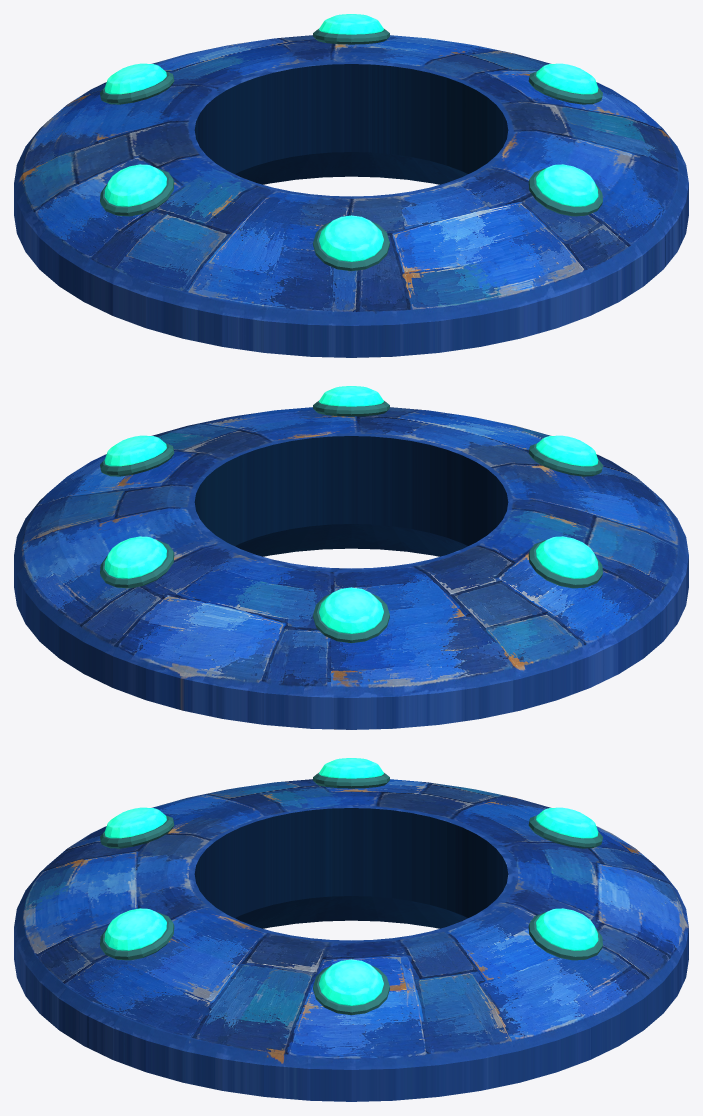
The model's file is part-outer-ring.glb.
The picture shows the model from 3 angles, top to bottom: view 1: azimuth 30°, elevation 25°; view 2: azimuth 150°, elevation 25°; view 3: azimuth 270°, elevation 25°; orthographic projection.
Visible parts, largest first — view 1: Outer_Ring, Rim_Lens_03, Rim_Lens_02, Rim_Lens_04, Rim_Lens_01, Rim_Lens_05, Rim_Lens_06, Rim_Bezel_03, Rim_Bezel_02, Rim_Bezel_04, Rim_Bezel_01, Rim_Bezel_05 (+1 smaller); view 2: Outer_Ring, Rim_Lens_05, Rim_Lens_04, Rim_Lens_06, Rim_Lens_01, Rim_Lens_03, Rim_Lens_02, Rim_Bezel_05, Rim_Bezel_04, Rim_Bezel_06, Rim_Bezel_01, Rim_Bezel_03 (+1 smaller); view 3: Outer_Ring, Rim_Lens_01, Rim_Lens_02, Rim_Lens_06, Rim_Lens_03, Rim_Lens_05, Rim_Lens_04, Rim_Bezel_01, Rim_Bezel_02, Rim_Bezel_06, Rim_Bezel_03, Rim_Bezel_05 (+1 smaller).
Boxes of the visible parts, bbox=[...] form: Outer_Ring: bbox=[14, 35, 688, 357]; Rim_Lens_03: bbox=[319, 215, 383, 261]; Rim_Lens_02: bbox=[536, 164, 598, 206]; Rim_Lens_04: bbox=[104, 164, 166, 206]; Rim_Lens_01: bbox=[536, 63, 598, 94]; Rim_Lens_05: bbox=[104, 63, 166, 94]; Rim_Lens_06: bbox=[319, 14, 383, 34]; Rim_Bezel_03: bbox=[313, 221, 389, 271]; Rim_Bezel_02: bbox=[528, 168, 602, 216]; Rim_Bezel_04: bbox=[100, 168, 174, 216]; Rim_Bezel_01: bbox=[528, 71, 602, 104]; Rim_Bezel_05: bbox=[100, 71, 174, 104]; Outer_Ring: bbox=[14, 407, 688, 729]; Rim_Lens_05: bbox=[319, 587, 383, 633]; Rim_Lens_04: bbox=[536, 536, 598, 578]; Rim_Lens_06: bbox=[104, 536, 166, 578]; Rim_Lens_01: bbox=[104, 435, 166, 466]; Rim_Lens_03: bbox=[536, 435, 598, 466]; Rim_Lens_02: bbox=[319, 386, 383, 406]; Rim_Bezel_05: bbox=[313, 593, 389, 643]; Rim_Bezel_04: bbox=[528, 540, 602, 588]; Rim_Bezel_06: bbox=[100, 540, 174, 588]; Rim_Bezel_01: bbox=[100, 443, 174, 476]; Rim_Bezel_03: bbox=[528, 443, 602, 476]; Outer_Ring: bbox=[14, 779, 688, 1101]; Rim_Lens_01: bbox=[319, 959, 383, 1005]; Rim_Lens_02: bbox=[104, 908, 166, 950]; Rim_Lens_06: bbox=[536, 908, 598, 950]; Rim_Lens_03: bbox=[104, 807, 166, 838]; Rim_Lens_05: bbox=[536, 807, 598, 838]; Rim_Lens_04: bbox=[319, 758, 383, 778]; Rim_Bezel_01: bbox=[313, 965, 389, 1015]; Rim_Bezel_02: bbox=[100, 912, 174, 960]; Rim_Bezel_06: bbox=[528, 912, 602, 960]; Rim_Bezel_03: bbox=[100, 815, 174, 848]; Rim_Bezel_05: bbox=[528, 815, 602, 848].
Bounding box in the file's own units: 2.6 × 0.6294 × 2.6.
Materials: 5 (4 with a texture image).
